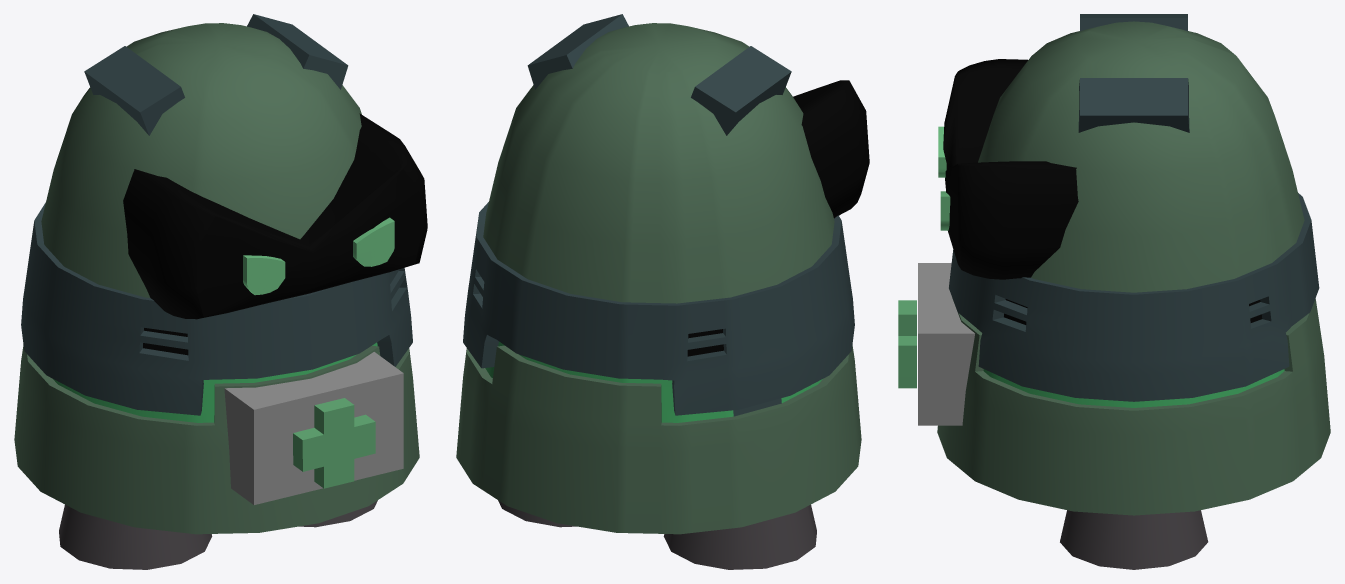
Rendered from Medic Combined.fbx.
3 renders of one model, left to right at view 1: azimuth 30°, elevation 25°; view 2: azimuth 150°, elevation 25°; view 3: azimuth 270°, elevation 25°, orthographic. The views are drawn at different scales.
Parts seen in each view (by area): view 1: Enemy_thrusters:pasted__pCube1; view 2: Enemy_thrusters:pasted__pCube1; view 3: Enemy_thrusters:pasted__pCube1.
Boxes of the visible parts, <box> form: Enemy_thrusters:pasted__pCube1: <box>14,14,427,569</box>; Enemy_thrusters:pasted__pCube1: <box>456,14,869,569</box>; Enemy_thrusters:pasted__pCube1: <box>898,14,1330,569</box>.
Bounding box in the file's own units: 2.68 × 3.43 × 2.94.
